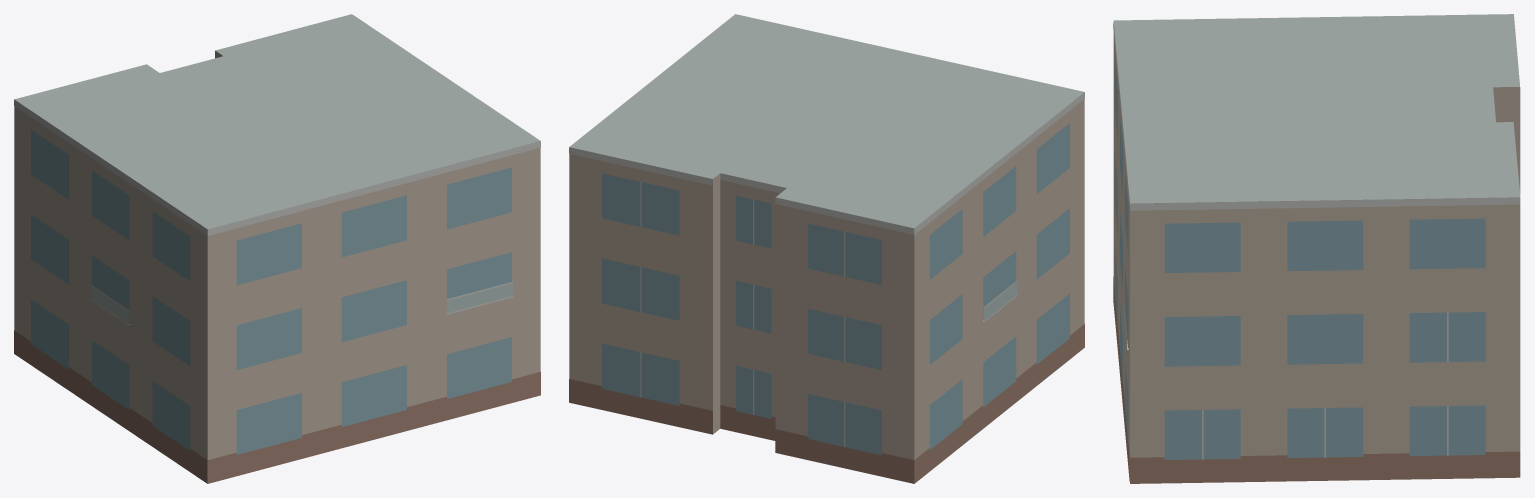
Rendered from survey-upis-32838177.glb.
3 renders of one model, left to right at view 1: azimuth 30°, elevation 25°; view 2: azimuth 150°, elevation 25°; view 3: azimuth 270°, elevation 25°, orthographic. The views are drawn at different scales.
Visible parts, largest first — view 1: survey-upis-32838177.tmp; view 2: survey-upis-32838177.tmp; view 3: survey-upis-32838177.tmp.
Boxes of the visible parts, x1,y1,x2,y2 form: survey-upis-32838177.tmp: (14, 14, 540, 483); survey-upis-32838177.tmp: (569, 14, 1084, 483); survey-upis-32838177.tmp: (1113, 14, 1520, 483).
Bounding box in the file's own units: 13.63 × 9.4 × 12.38.
